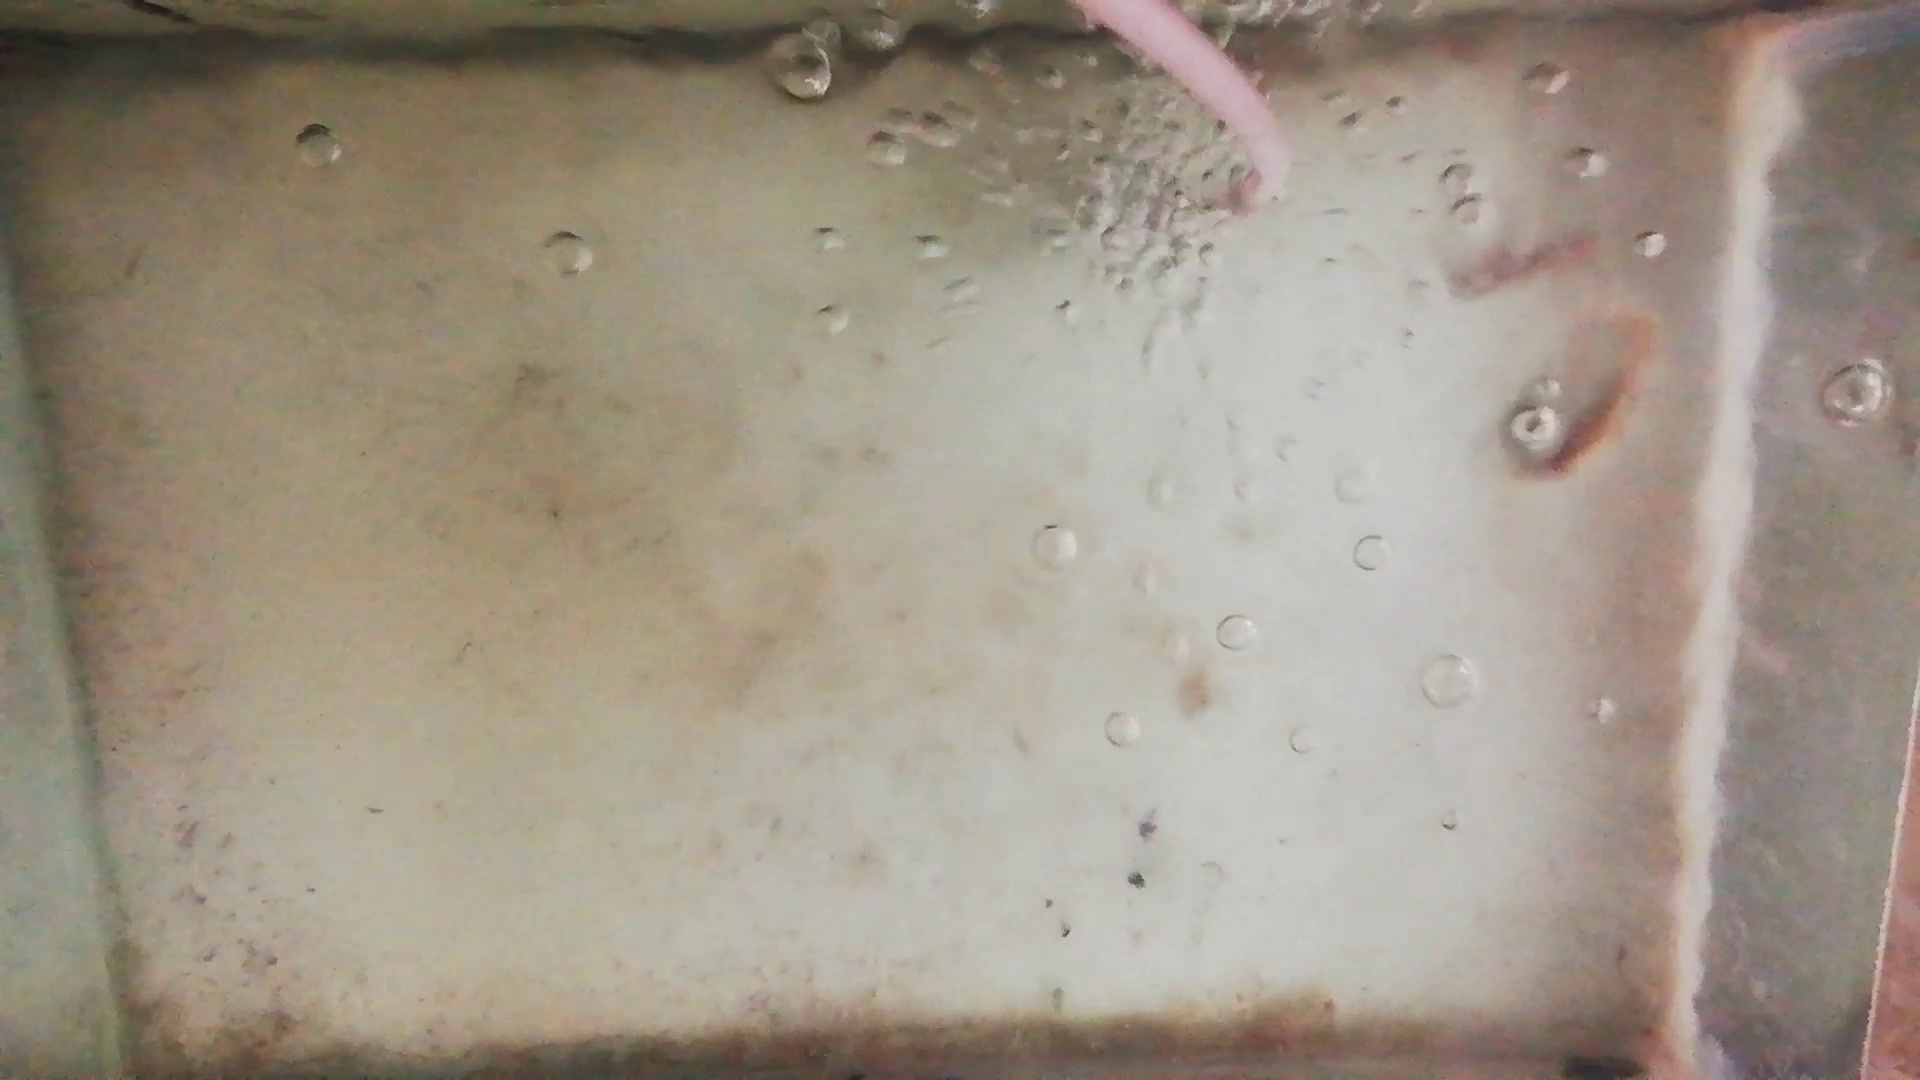fish: (1527, 363, 1638, 481), (1445, 229, 1607, 295)
